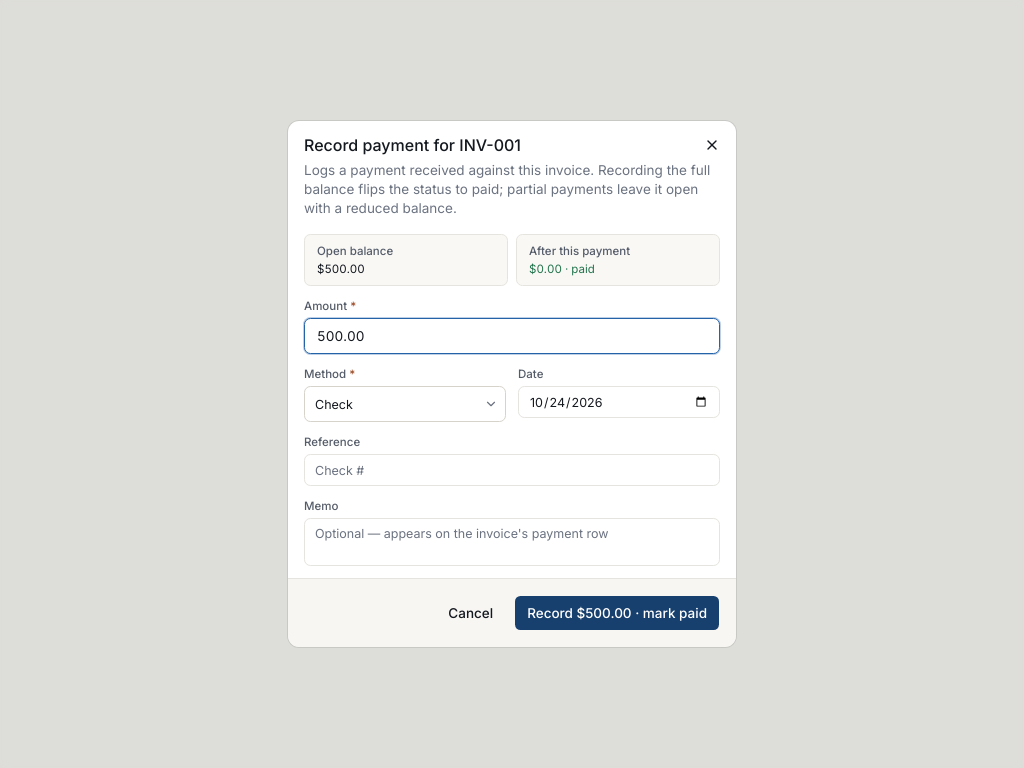
it: RecordPaymentDialog — form behaviour › a failed submit keeps what the user typed (no form-reset wipe)
The width and height of the screenshot is (1024, 768).
Type "Check 4411" into the field labelled "Reference".
click(512, 470); type("Check 4411")  # box [304,454,720,486]
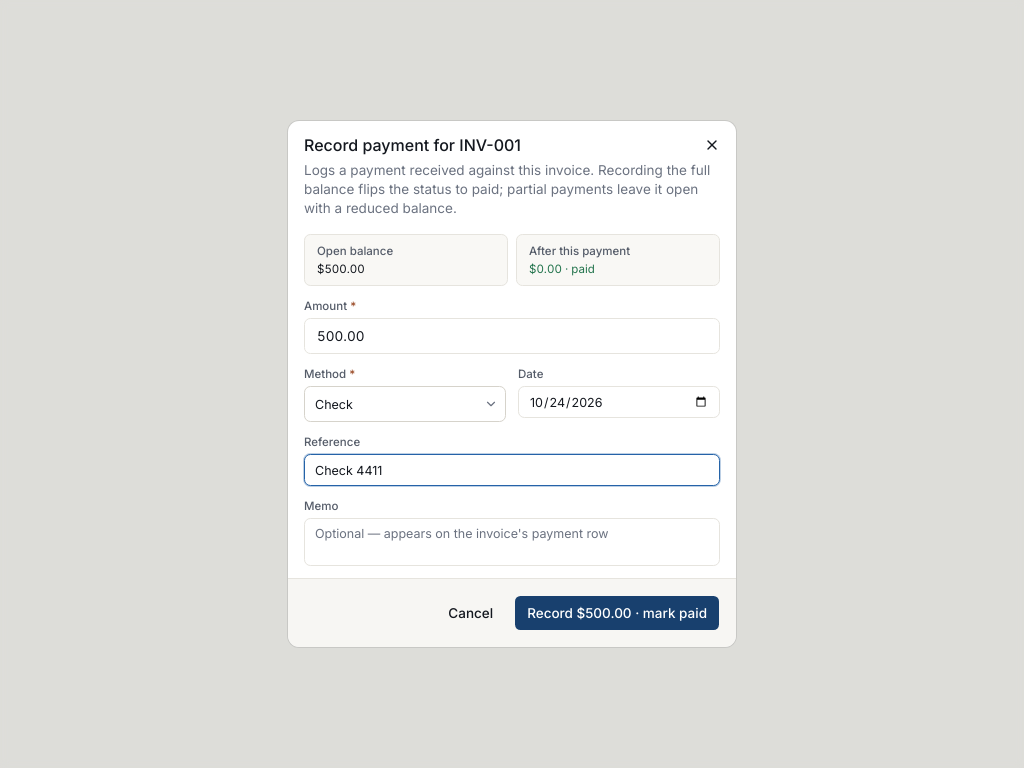
Select "ACH / wire" in the dropdown labelled "Method *" at [405, 404], box [304,386,506,422]
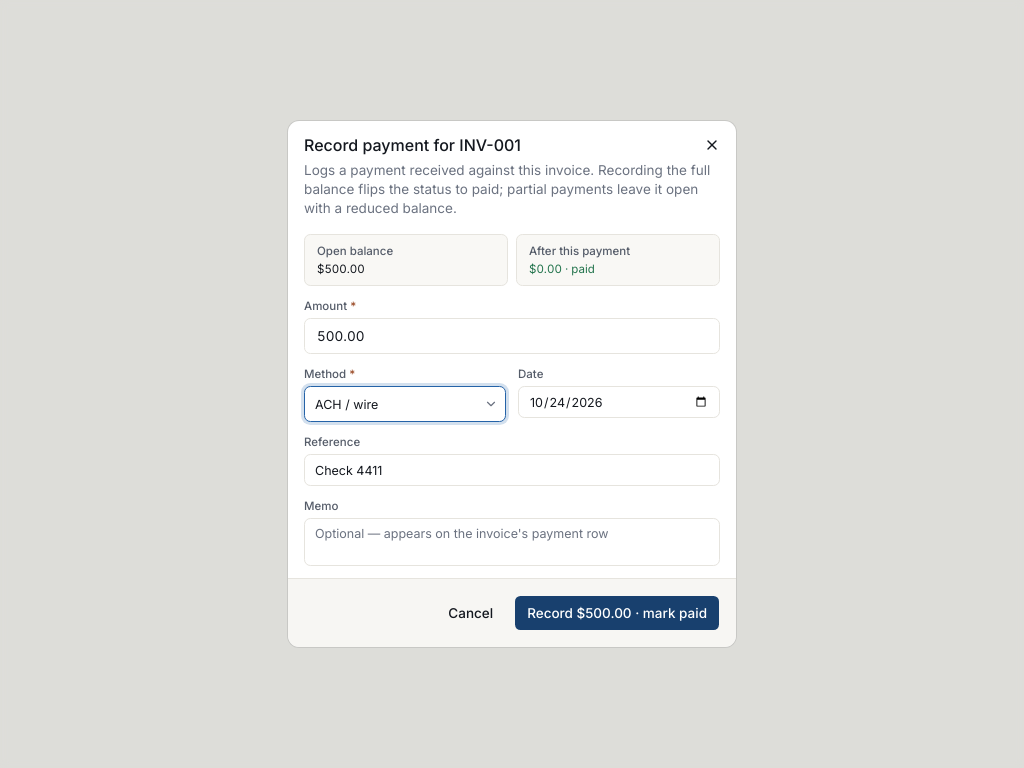
Click the button "Record $500.00 · mark paid".
click(617, 613)  # box [514,595,720,631]
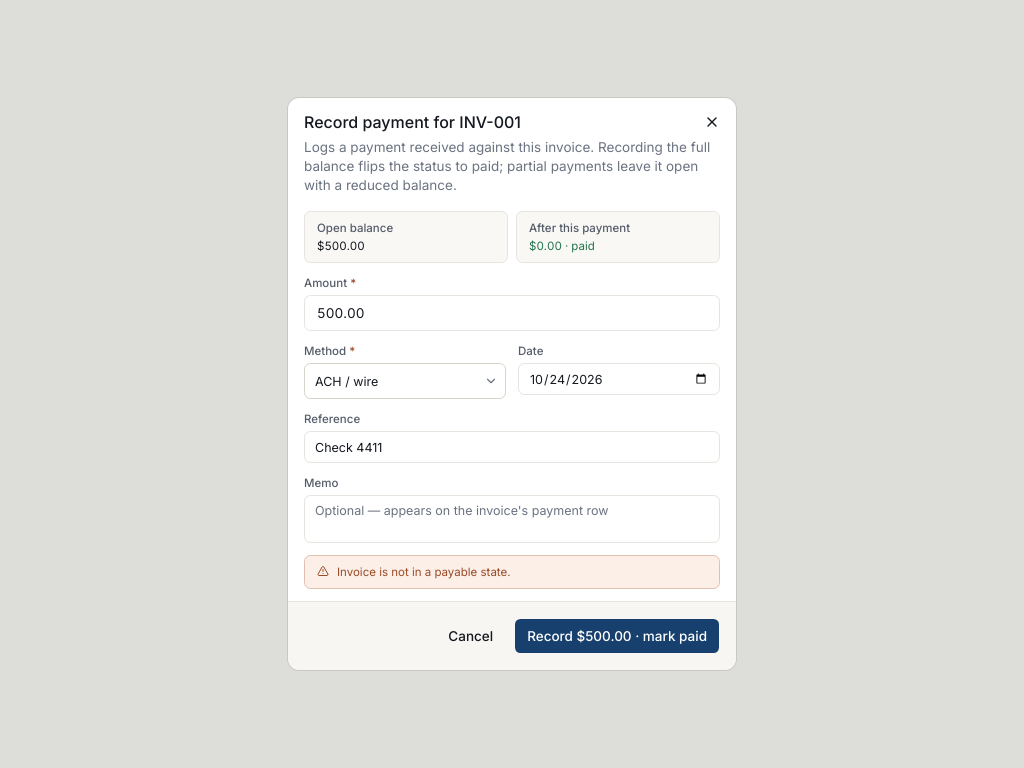
Now the text "Invoice is not in a payable state." is shown, box [337,564,510,580]
